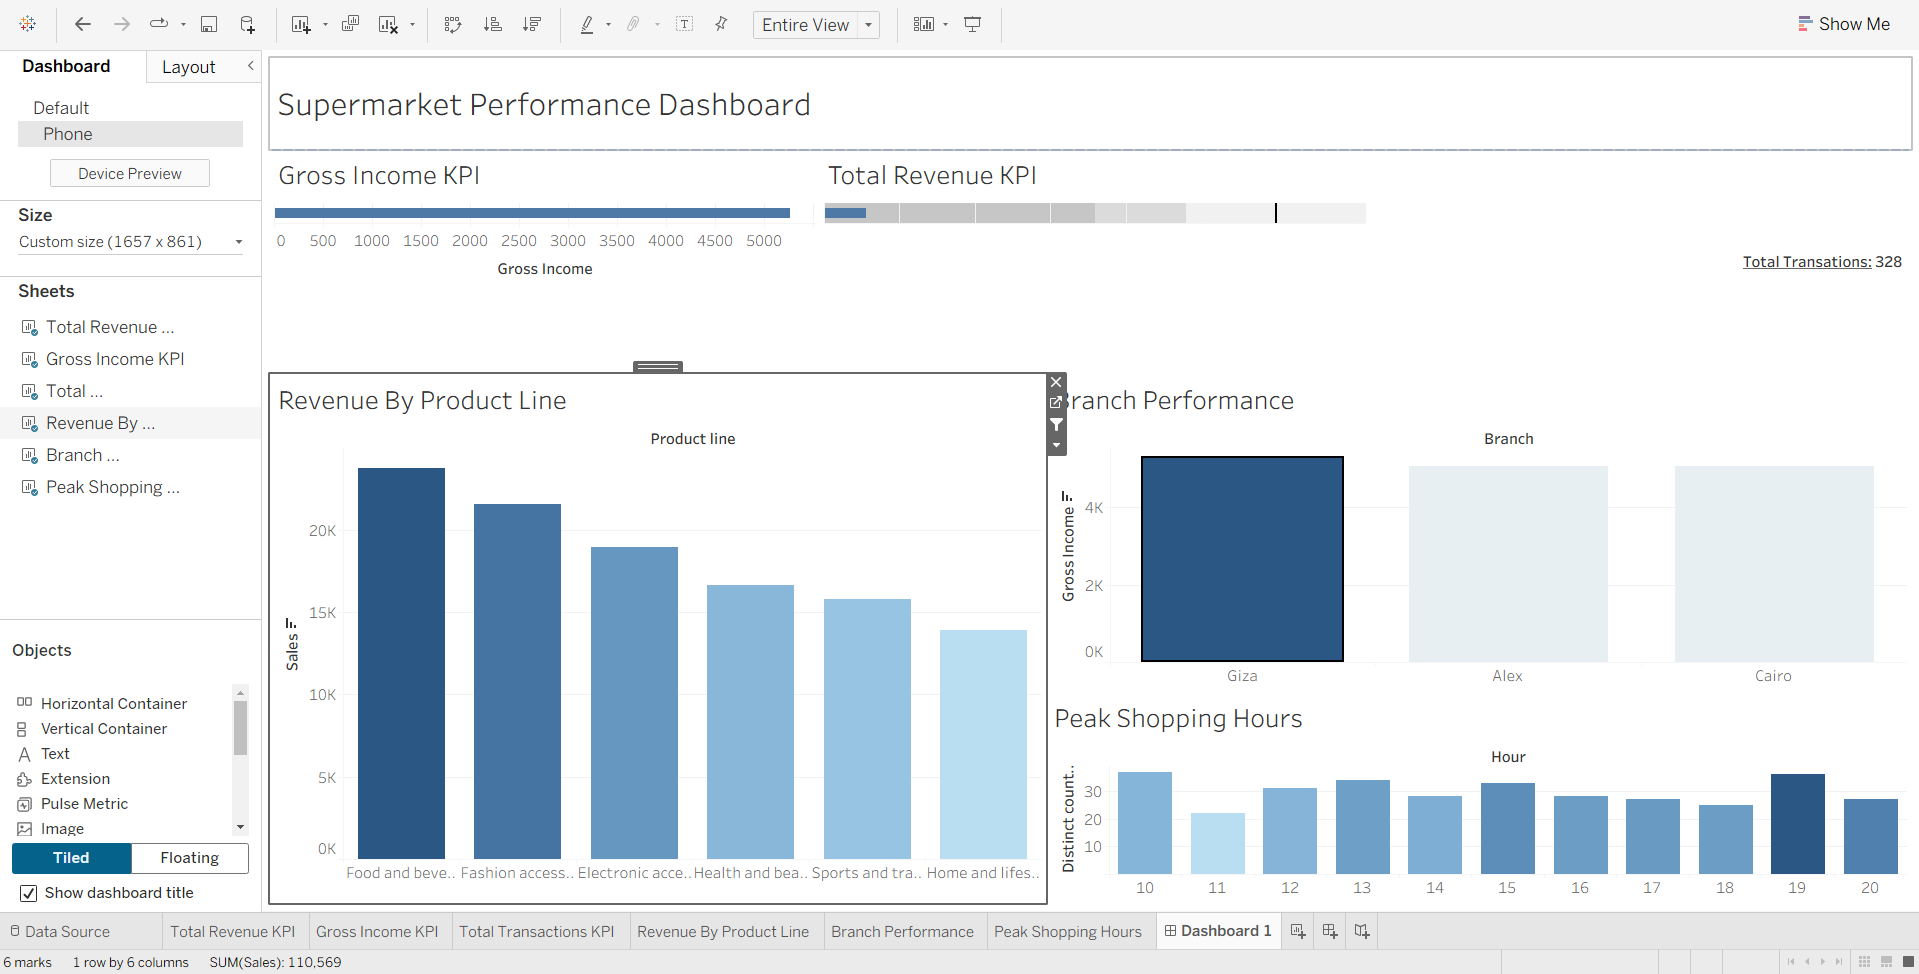

The dashboard page shown, as its layout file describes it:
{"tool":"tableau","page":{"name":"Dashboard 1","canvas":[1657,861],"ordinal":0},"visuals":[{"type":"title","box":[8,8,1641,91]},{"type":"worksheet","title":"Gross Income KPI","mark":"Automatic","cols":["gross income"],"box":[8,99,550,225.4]},{"type":"worksheet","title":"Total Revenue KPI","mark":"Automatic","cols":["Sales"],"box":[558,99,550,225.4]},{"type":"worksheet","title":"Total Transactions KPI","mark":"Automatic","box":[1108,99,541,225.4]},{"type":"worksheet","title":"Revenue By Product Line","mark":"Automatic","rows":["Sales"],"cols":["Product line"],"box":[8,324.4,776.5,528.6]},{"type":"worksheet","title":"Branch Performance","mark":"Automatic","rows":["gross income"],"cols":["Branch"],"box":[784.5,324.4,864.5,317.4]},{"type":"worksheet","title":"Peak Shopping Hours","mark":"Automatic","rows":["Invoice ID"],"cols":["Hour"],"box":[784.5,641.7,864.5,211.3]}]}

Visuals, with their boxes on the page's 1657x861 design canvas (x1, y1, x2, y2). These are canvas units, not pixel positions in the 1919x974 screenshot, which may show the page scaled, cropped or inside an application window:
title: box=[8, 8, 1649, 99]
"Gross Income KPI" worksheet: box=[8, 99, 558, 324]
"Total Revenue KPI" worksheet: box=[558, 99, 1108, 324]
"Total Transactions KPI" worksheet: box=[1108, 99, 1649, 324]
"Revenue By Product Line" worksheet: box=[8, 324, 784, 853]
"Branch Performance" worksheet: box=[784, 324, 1649, 642]
"Peak Shopping Hours" worksheet: box=[784, 642, 1649, 853]
